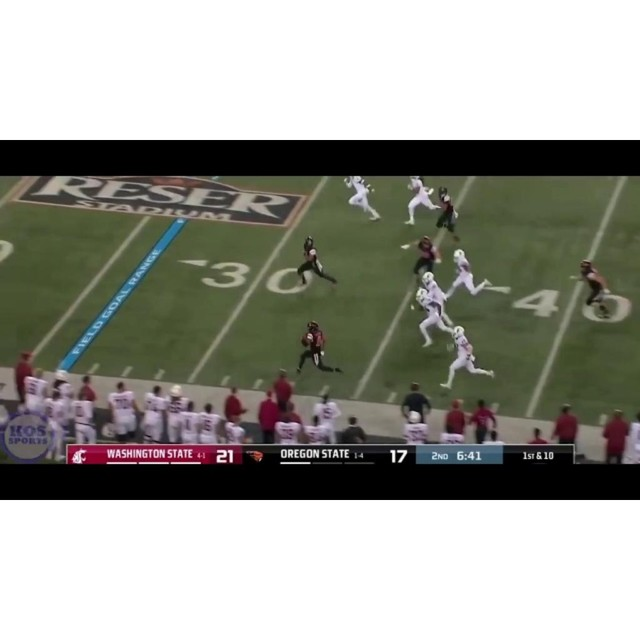american-football-player: (440, 325, 494, 391), (296, 321, 342, 376), (295, 236, 338, 294), (413, 288, 454, 348), (573, 259, 612, 319), (422, 271, 457, 329), (450, 249, 490, 299), (403, 175, 439, 227), (404, 235, 442, 280), (345, 176, 381, 221), (435, 187, 461, 242)
